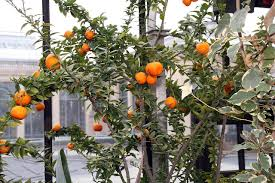orange: (149, 61, 162, 75), (195, 42, 209, 54), (134, 72, 146, 85), (164, 96, 176, 108)
